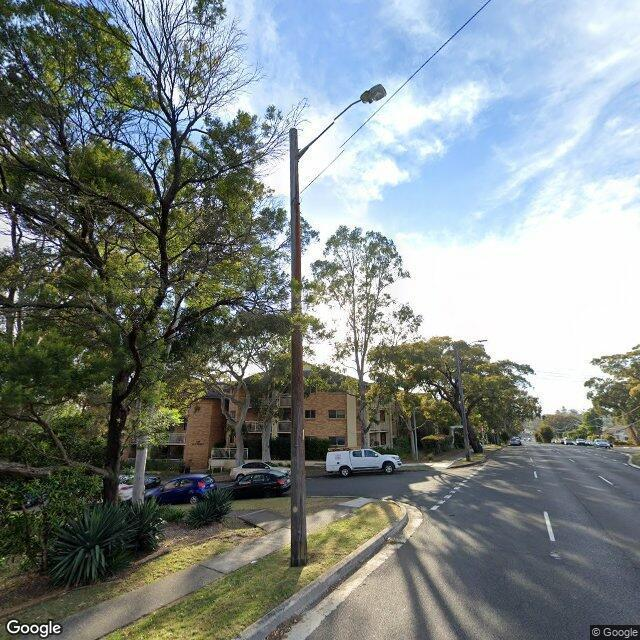streetlight: (297, 84, 388, 162), (458, 339, 488, 352)
timber-pole: (290, 127, 309, 567), (456, 345, 471, 461)
